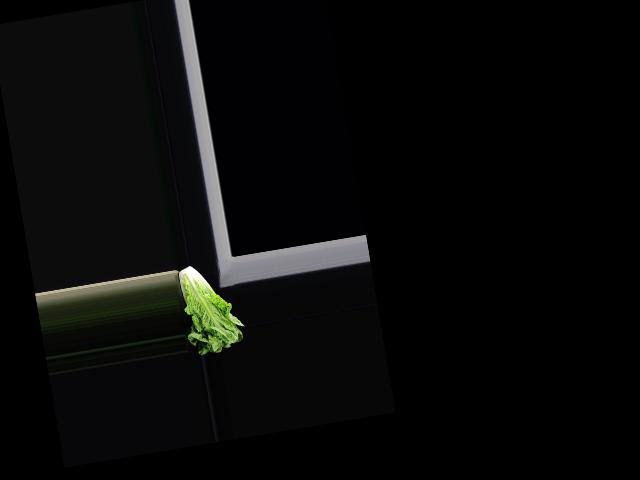lettuce: (175, 258, 247, 358)
